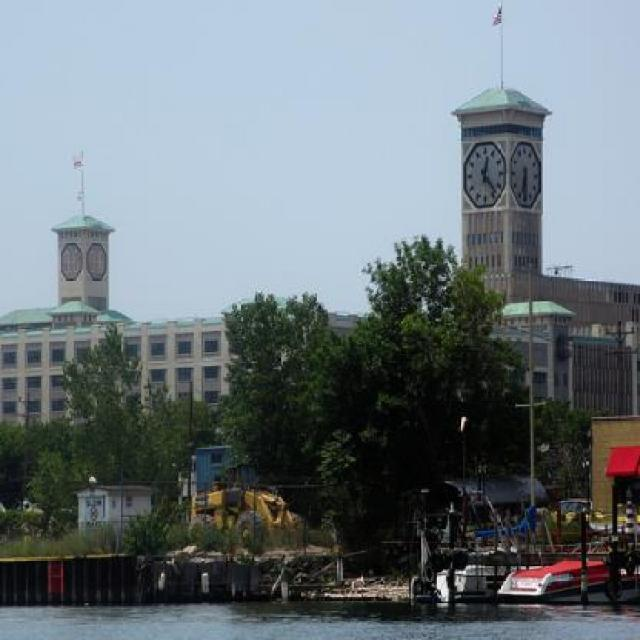ship: (491, 538, 635, 602)
